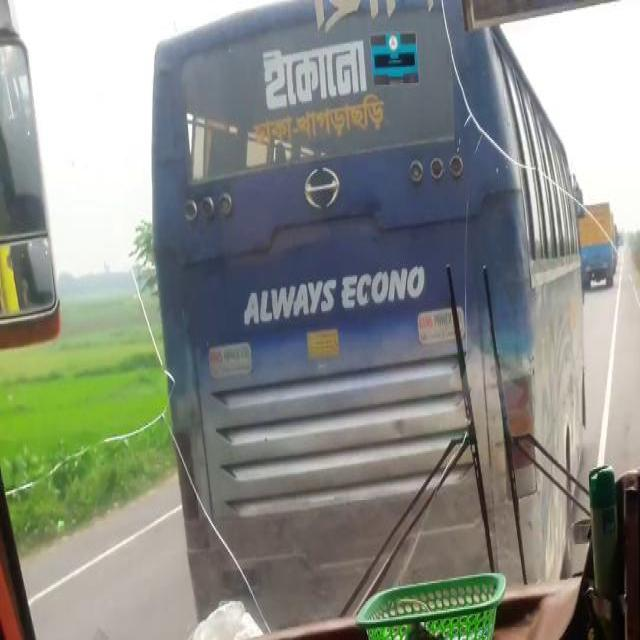bus: (152, 7, 582, 594)
pickup: (577, 204, 615, 284)
